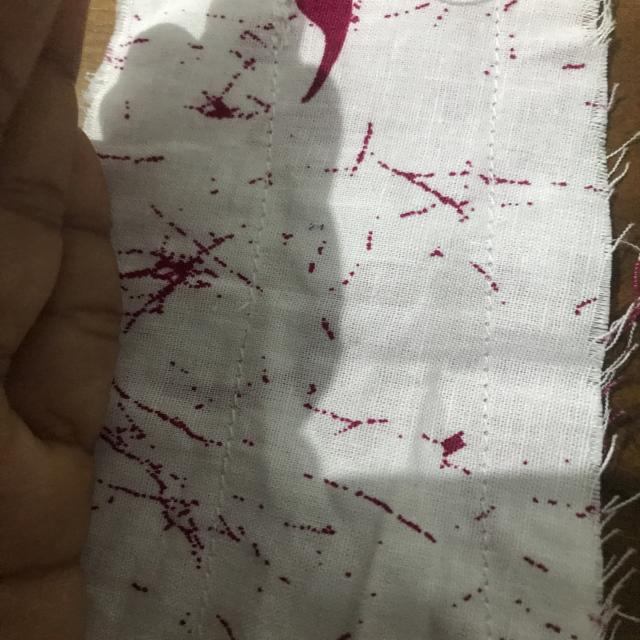broken: (215, 281, 284, 365)
good: (201, 406, 242, 485)
